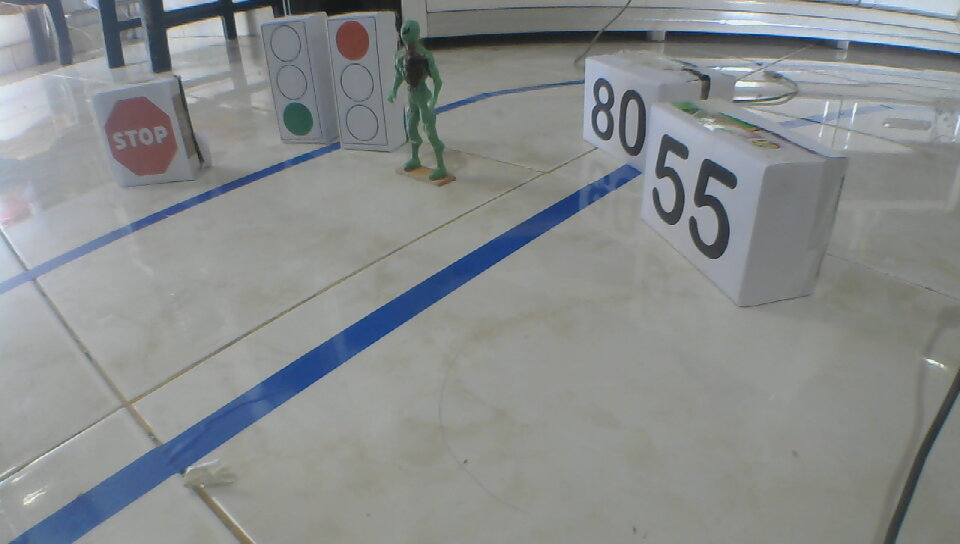Green Light: (268, 24, 314, 138)
Person: (386, 17, 449, 181)
Red Light: (333, 18, 379, 143)
Speed 55: (647, 132, 741, 262)
Speed 80: (588, 78, 646, 157)
Stop: (104, 95, 177, 176)
